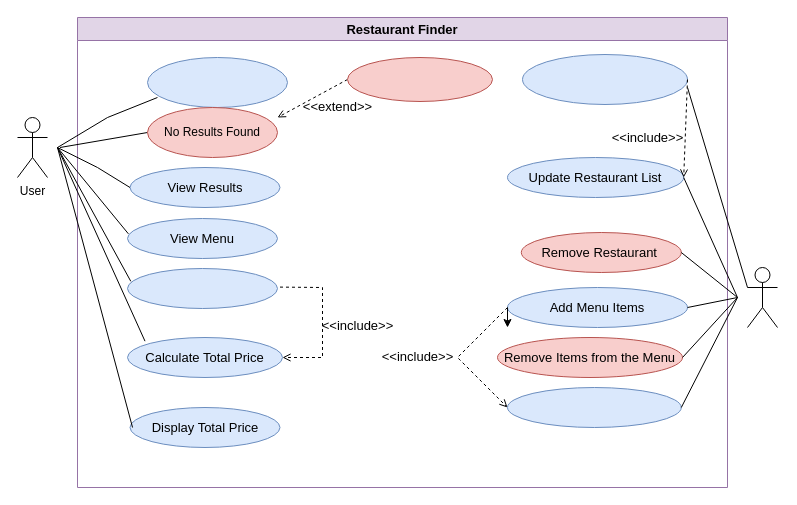
The diagram is 797 pixels wide and 505 high, and some of its shapes have lost their labels. The shapes that lost their labels are listed below. From the top down, each one's box as (x1, y1, x2, y2) in pixels, then its label:
(146, 56, 288, 108): Search
(346, 56, 492, 102): Restaurant Not Found
(522, 54, 688, 104): Add Restaurants
(126, 268, 278, 308): Select Items
(746, 266, 778, 328): Admin
(506, 386, 681, 428): Update the Menu
